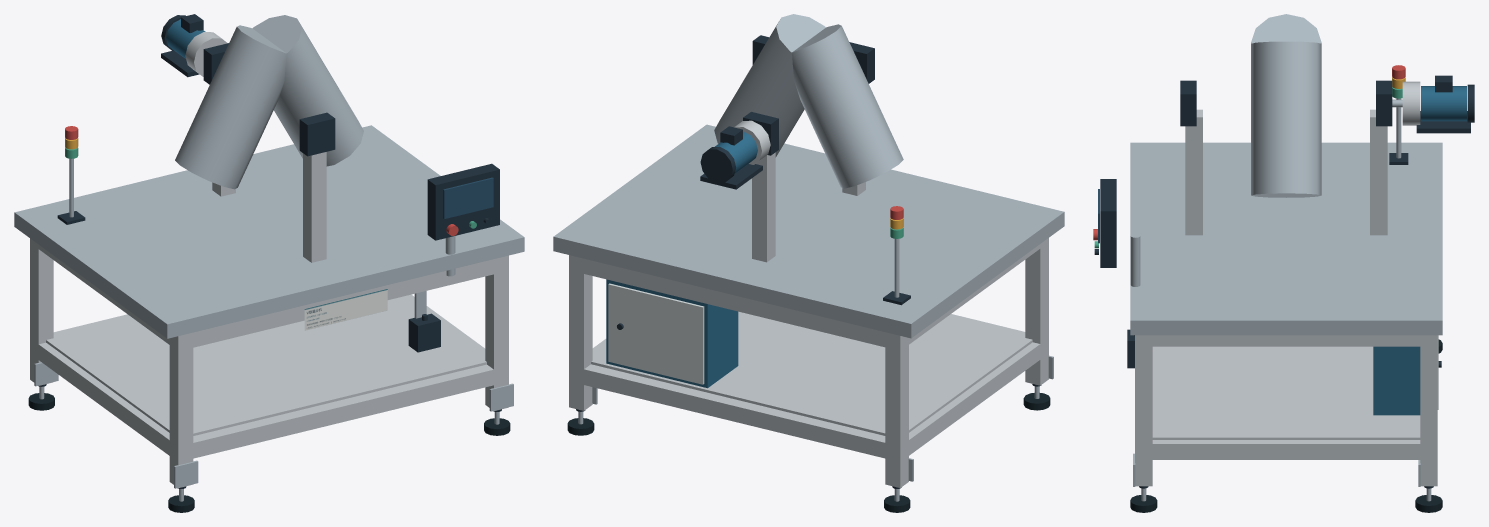
Rendered from v-blender-cell.glb.
3 views of the same model, side by side, from view 1: azimuth 30°, elevation 25°; view 2: azimuth 150°, elevation 25°; view 3: azimuth 270°, elevation 25° (orthographic). The views are drawn at different scales.
Visible parts, largest first — view 1: ClosedMachineBed_28, LowerShelf_29, VesselLeg_50, SlottedExtrusion_22, VesselLeg_51, SlottedExtrusion_23, SlottedExtrusion_8, SlottedExtrusion_24, ConsoleBack_34, SlottedExtrusion_18, SlottedExtrusion_49, SlottedExtrusion_3 (+10 smaller); view 2: ClosedMachineBed_28, LowerShelf_29, VesselLeg_50, BackDoor_31, SlottedExtrusion_20, VesselLeg_51, SlottedExtrusion_21, SlottedExtrusion_3, Cabinet_30, SlottedExtrusion_13, SlottedExtrusion_24, SlottedExtrusion_8 (+8 smaller); view 3: ClosedMachineBed_28, LowerShelf_29, VesselLeg_51, SlottedExtrusion_26, SlottedExtrusion_27, Cabinet_30, SlottedExtrusion_18, SlottedExtrusion_13, SlottedExtrusion_49, SlottedExtrusion_48, MotorBody_55, VesselLeg_50 (+6 smaller).
Boxes of the visible parts, x1,y1,x2,y2 form: ClosedMachineBed_28: (14,125,524,338); LowerShelf_29: (46,295,486,435); VesselLeg_50: (175,25,286,189); SlottedExtrusion_22: (186,364,501,458); VesselLeg_51: (252,15,363,166); SlottedExtrusion_23: (185,259,493,349); SlottedExtrusion_8: (169,333,193,487); SlottedExtrusion_24: (34,342,173,458); ConsoleBack_34: (427,163,499,240); SlottedExtrusion_18: (485,255,508,410); SlottedExtrusion_49: (303,152,326,262); SlottedExtrusion_3: (30,238,53,385); ClosedMachineBed_28: (553,124,1064,338); LowerShelf_29: (591,311,1032,435); VesselLeg_50: (792,24,903,188); BackDoor_31: (608,283,704,384); SlottedExtrusion_20: (577,364,892,458); VesselLeg_51: (714,14,825,157); SlottedExtrusion_21: (576,258,892,348); SlottedExtrusion_3: (885,332,908,487); Cabinet_30: (606,279,738,388); SlottedExtrusion_13: (569,255,592,410); SlottedExtrusion_24: (904,342,1040,458); SlottedExtrusion_8: (1025,238,1048,385); ClosedMachineBed_28: (1130,142,1442,335); LowerShelf_29: (1152,346,1420,439); VesselLeg_51: (1251,41,1321,197); SlottedExtrusion_26: (1143,440,1428,459); SlottedExtrusion_27: (1143,335,1428,346); Cabinet_30: (1373,346,1420,415); SlottedExtrusion_18: (1135,335,1152,486); SlottedExtrusion_13: (1420,335,1437,486); SlottedExtrusion_49: (1185,109,1202,235); SlottedExtrusion_48: (1370,109,1387,235); MotorBody_55: (1421,86,1466,121); VesselLeg_50: (1251,14,1321,43).
Size of the model in its own units: 1.55 by 1.63 by 1.4.
11 materials, 1 textured.
